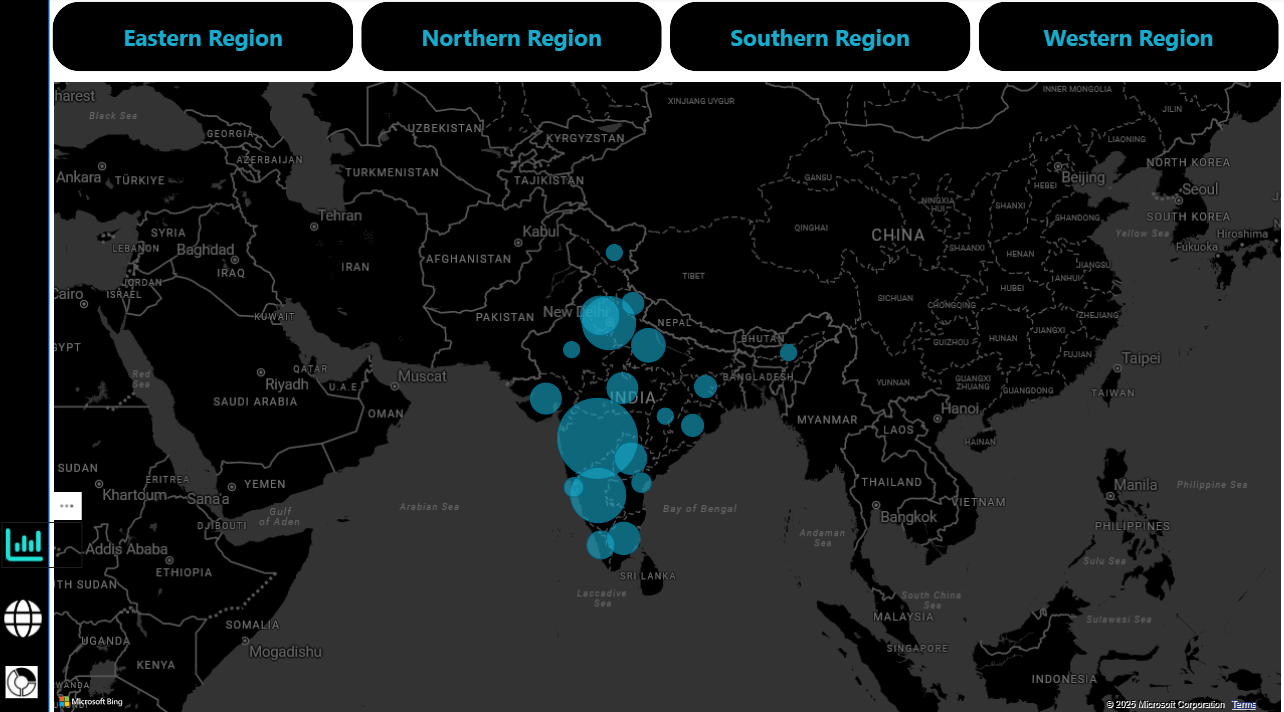

What the dashboard file says about the page in this screenshot:
{"tool":"powerbi","page":{"name":"Map","canvas":[1280,720],"ordinal":1},"visuals":[{"type":"map","fields":{"Size":["Count(Sheet1.Name)"],"Category":["Sheet1.State"]},"box":[49.4,79.6,1230.9,640.8],"z":1000},{"type":"advancedSlicerVisual","fields":{"Values":["Sheet1.Region"]},"box":[48,0,1230.9,79.6],"z":4000},{"type":"shape","box":[0,0,50,720],"z":4001},{"type":"actionButton","box":[2.7,522.8,81,45.3],"z":4002},{"type":"actionButton","box":[1.4,595.5,81,45.3],"z":4003},{"type":"actionButton","box":[2.9,661.4,85.7,40],"z":4004}]}

Visuals, with their boxes in screenshot pixels (x1, y1, x2, y2):
map - Count(Sheet1.Name) x Sheet1.State: {"left": 48, "top": 78, "right": 1249, "bottom": 703}
advancedSlicerVisual - Sheet1.Region: {"left": 47, "top": 0, "right": 1248, "bottom": 78}
shape: {"left": 0, "top": 0, "right": 49, "bottom": 702}
actionButton: {"left": 3, "top": 510, "right": 82, "bottom": 554}
actionButton: {"left": 1, "top": 581, "right": 80, "bottom": 625}
actionButton: {"left": 3, "top": 645, "right": 86, "bottom": 684}
